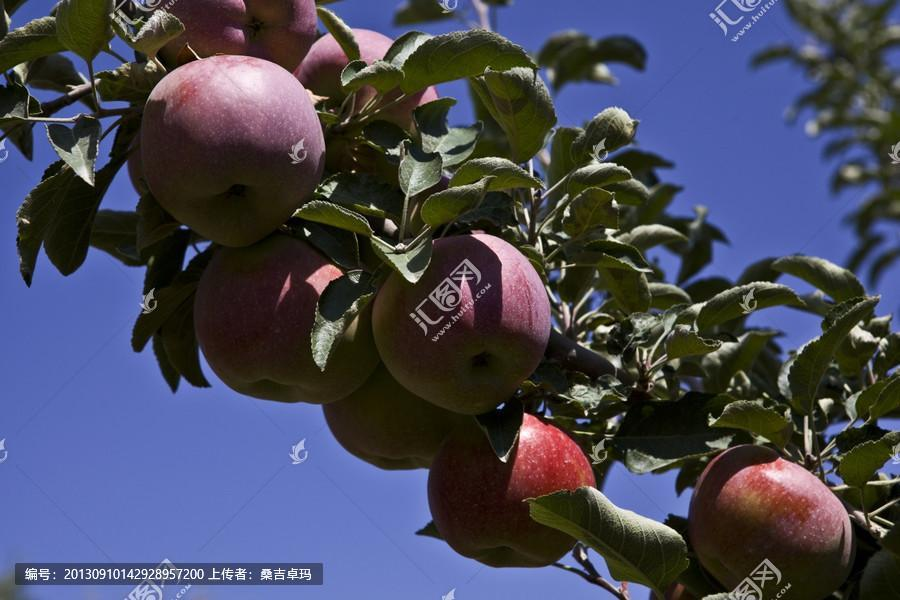apple: (135, 52, 329, 249), (373, 229, 552, 409), (420, 410, 598, 567), (197, 231, 356, 403), (685, 446, 849, 596)
